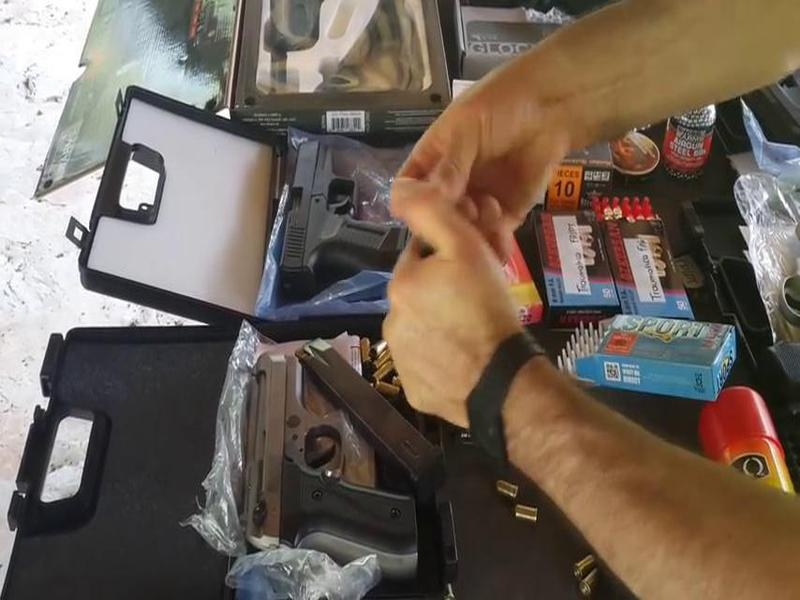Pistola: (212, 320, 437, 576), (269, 133, 423, 309)
